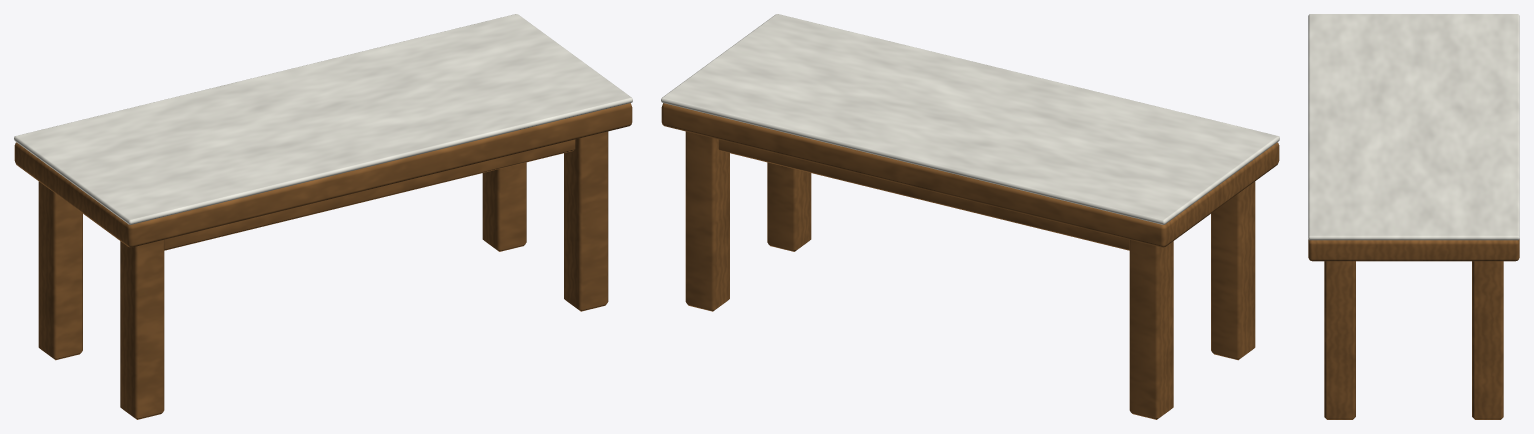
File: Furn_ExamTable.fbx
3 views of the same model, side by side, from view 1: azimuth 30°, elevation 25°; view 2: azimuth 150°, elevation 25°; view 3: azimuth 270°, elevation 25° (orthographic). The views are drawn at different scales.
Parts seen in each view (by area): view 1: Furn_ExamTable_Mesh; view 2: Furn_ExamTable_Mesh; view 3: Furn_ExamTable_Mesh.
Boxes of the visible parts, left/top/right/bottom form: Furn_ExamTable_Mesh: left=14, top=14, right=632, bottom=419; Furn_ExamTable_Mesh: left=661, top=14, right=1279, bottom=419; Furn_ExamTable_Mesh: left=1308, top=14, right=1519, bottom=419.
Size of the model in its own units: 2 by 0.8 by 0.8.
